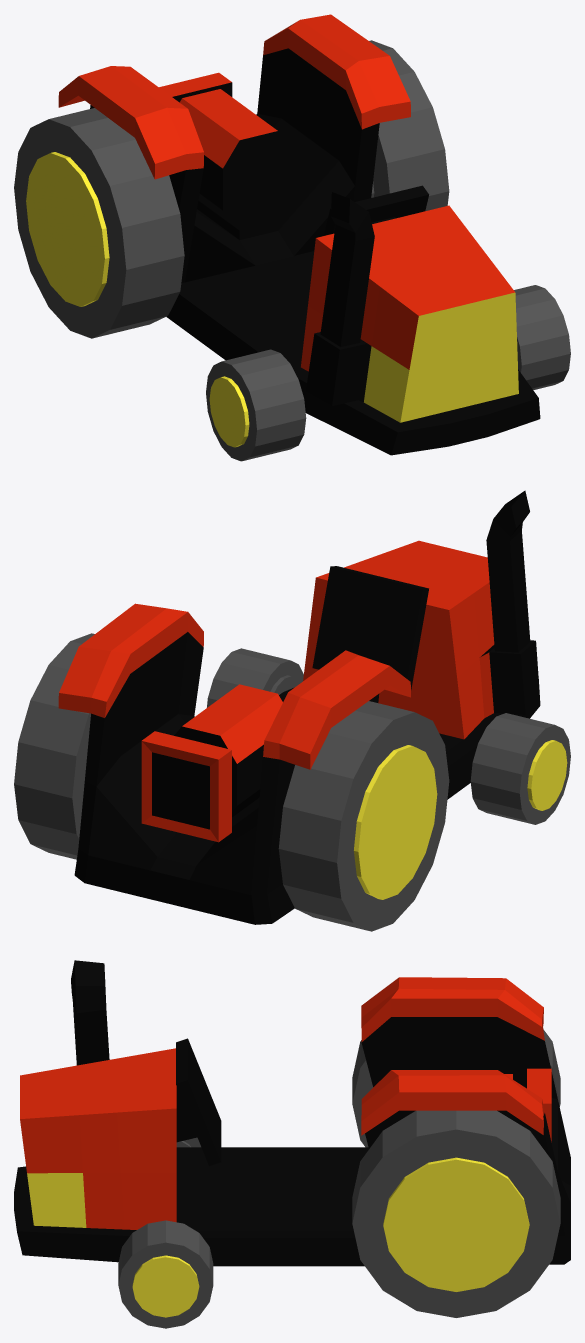
File: Tractor_Ground.fbx
3 views of the same model, one above another, from view 1: azimuth 30°, elevation 25°; view 2: azimuth 150°, elevation 25°; view 3: azimuth 270°, elevation 25° (orthographic). The views are drawn at different scales.
Visible parts, largest first — view 1: Tractor_Ground, Wheel_BR.001, Wheel_FR, Wheel_BL.001, Wheel_FL.005; view 2: Tractor_Ground, Wheel_BR.001, Wheel_BL.001, Wheel_FR, Wheel_FL.005; view 3: Tractor_Ground, Wheel_BL.001, Wheel_FL.005, Wheel_BR.001.
Part boxes in pixels (bbox=[...]): Tractor_Ground: bbox=[58, 14, 540, 455]; Wheel_BR.001: bbox=[14, 108, 184, 338]; Wheel_FR: bbox=[206, 349, 306, 461]; Wheel_BL.001: bbox=[369, 40, 449, 210]; Wheel_FL.005: bbox=[514, 285, 570, 389]; Tractor_Ground: bbox=[58, 490, 540, 924]; Wheel_BR.001: bbox=[278, 701, 449, 931]; Wheel_BL.001: bbox=[14, 633, 94, 859]; Wheel_FR: bbox=[470, 713, 570, 824]; Wheel_FL.005: bbox=[207, 648, 303, 707]; Tractor_Ground: bbox=[14, 960, 570, 1266]; Wheel_BL.001: bbox=[352, 1110, 560, 1317]; Wheel_FL.005: bbox=[118, 1220, 213, 1328]; Wheel_BR.001: bbox=[352, 1029, 560, 1147].
Bounding box in the file's own units: 94.01 × 147 × 75.17.
